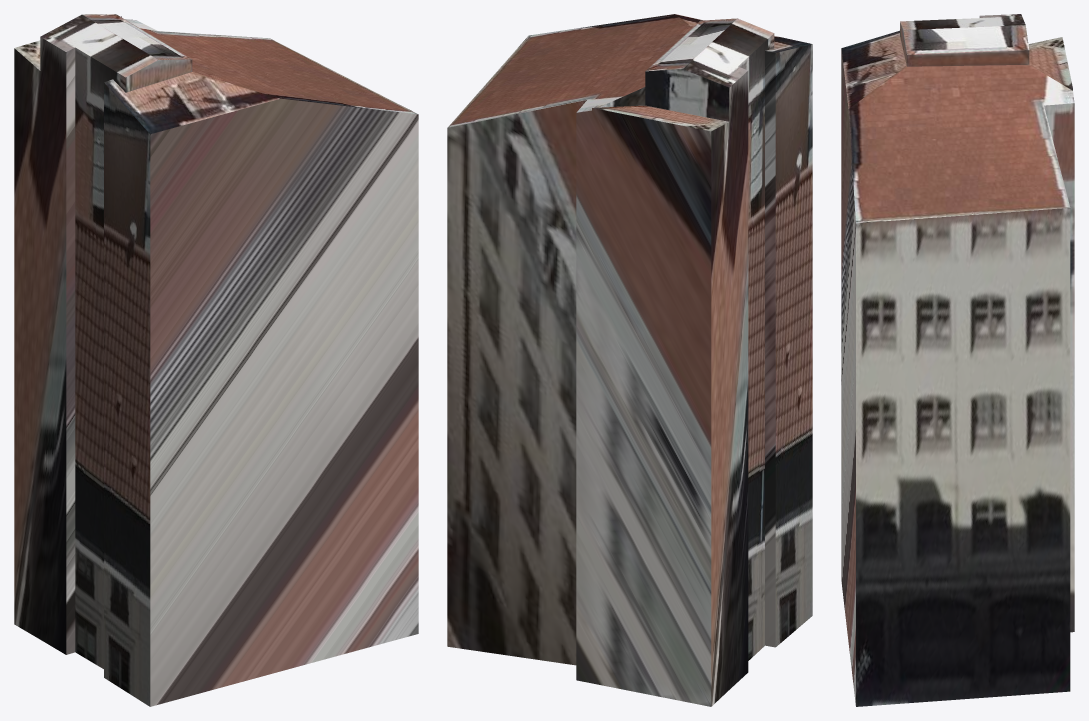
3 views of the same model, side by side, from view 1: azimuth 30°, elevation 25°; view 2: azimuth 150°, elevation 25°; view 3: azimuth 270°, elevation 25° (orthographic). The views are drawn at different scales.
Parts seen in each view (by area): view 1: Z_UP; view 2: Z_UP; view 3: Z_UP.
Boxes of the visible parts, x1=… form: Z_UP: x1=14, y1=14, x2=418, y2=706; Z_UP: x1=447, y1=14, x2=812, y2=706; Z_UP: x1=841, y1=14, x2=1074, y2=706.
Size of the model in its own units: 11.14 by 22.19 by 8.22.
2 materials, 1 textured.
